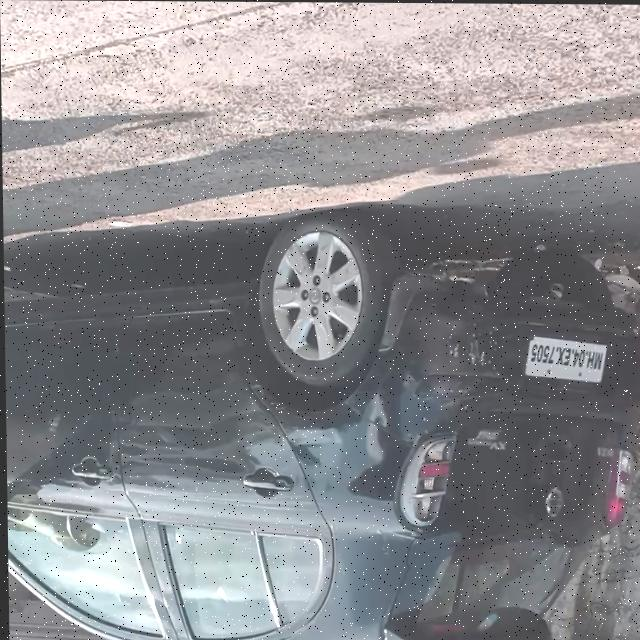plate: (522, 335, 608, 382)
